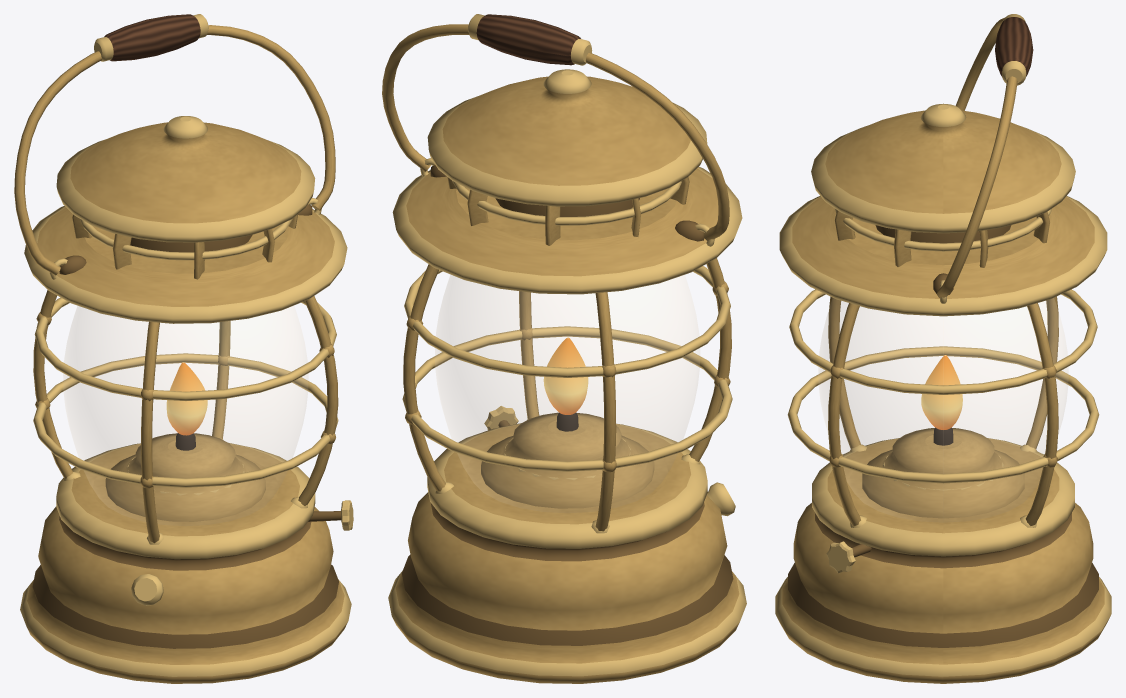
File: lantern_brass_travel.glb
3 renders of one model, left to right at view 1: azimuth 30°, elevation 25°; view 2: azimuth 150°, elevation 25°; view 3: azimuth 270°, elevation 25°, orthographic. The views are drawn at different scales.
Parts seen in each view (by area): view 1: lantern_brass_travel; view 2: lantern_brass_travel; view 3: lantern_brass_travel.
Boxes of the visible parts, x1,y1,x2,y2 form: lantern_brass_travel: [14, 14, 353, 683]; lantern_brass_travel: [382, 14, 746, 683]; lantern_brass_travel: [775, 14, 1111, 683].
Bounding box in the file's own units: 0.5566 × 0.96 × 0.5034.
Materials: 7 (3 with a texture image).
